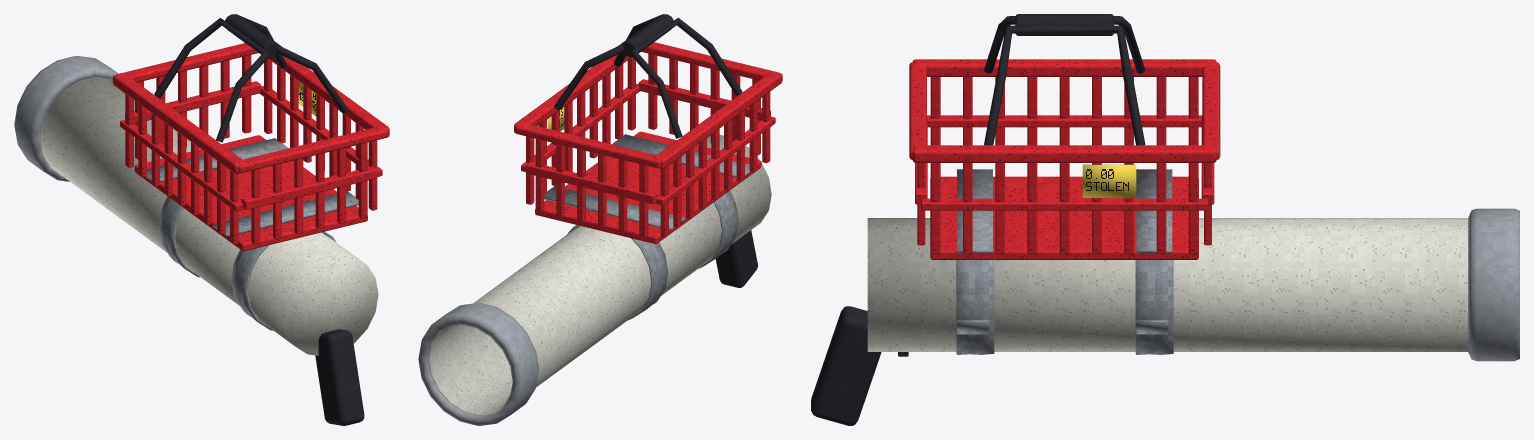
File: w_cart_basket.glb
The picture shows the model from 3 angles, left to right: view 1: azimuth 30°, elevation 25°; view 2: azimuth 150°, elevation 25°; view 3: azimuth 270°, elevation 25°; orthographic projection. The views are drawn at different scales.
Visible parts, largest first — view 1: basket_body_wzA, basket_works_wzB, basket_trim_wzN; view 2: basket_body_wzA, basket_works_wzB, basket_trim_wzN; view 3: basket_works_wzB, basket_body_wzA, basket_trim_wzN.
Part boxes in pixels (left/top/right/bottom): basket_body_wzA: left=112, top=43, right=389, bottom=425; basket_works_wzB: left=14, top=56, right=378, bottom=355; basket_trim_wzN: left=145, top=14, right=358, bottom=330; basket_body_wzA: left=514, top=42, right=782, bottom=287; basket_works_wzB: left=418, top=135, right=771, bottom=425; basket_trim_wzN: left=544, top=14, right=750, bottom=320; basket_works_wzB: left=867, top=208, right=1519, bottom=361; basket_body_wzA: left=811, top=59, right=1220, bottom=425; basket_trim_wzN: left=956, top=14, right=1173, bottom=354.
Size of the model in its own units: 0.247 by 0.5002 by 0.791.
7 materials, 6 textured.
